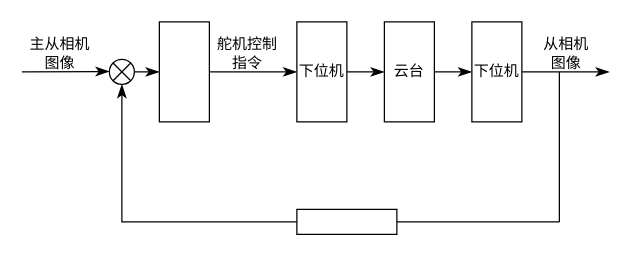
This 644x256 diagram has some shape labels left out. The shapes that lost their labels are listed below. From the top down, each one's centre as x and y in pixels, then its label:
At pixel 183 71: "上位机".
At pixel 346 221: "图像检测程序".
